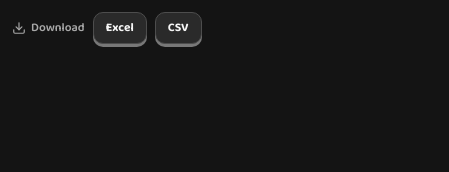
Test: a failed download says nothing was saved, rather than failing quietly
Click the button with test id "export-xlsx" at (120, 28), box [93,12,147,44]
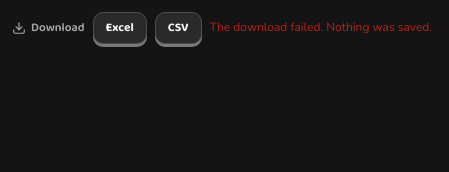
Expected: the text with test id "export-status" shows "Nothing was saved", [210,19,432,35]
